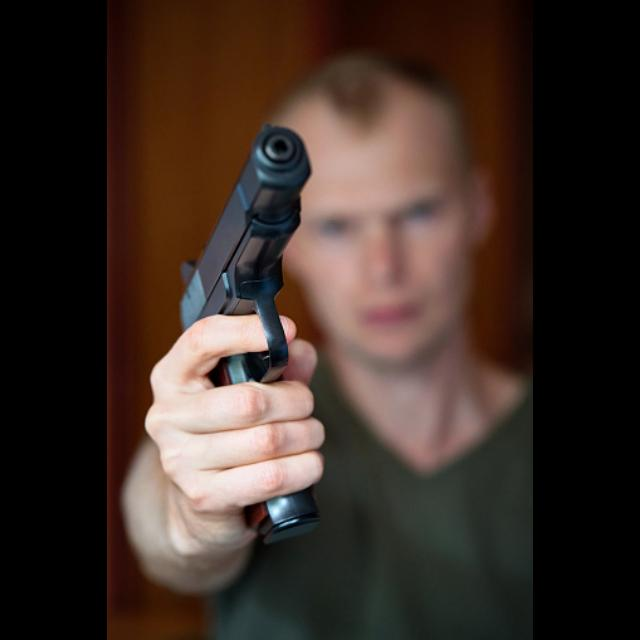handgun: (173, 111, 334, 392)
